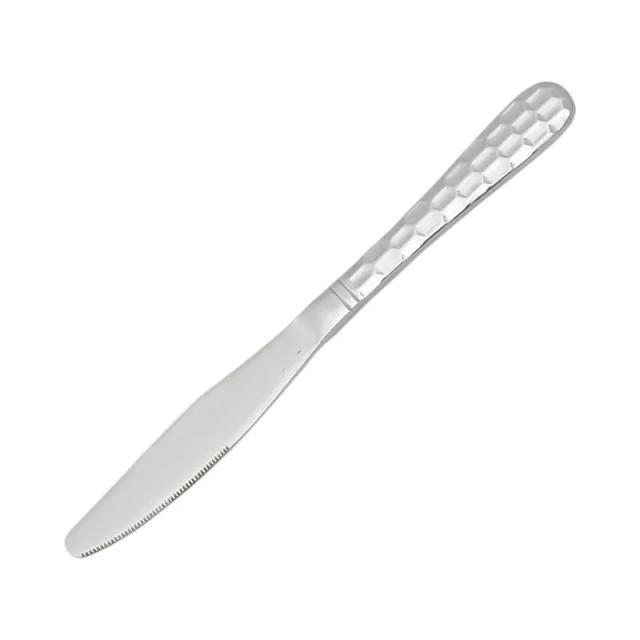Knife: (65, 82, 575, 557)
